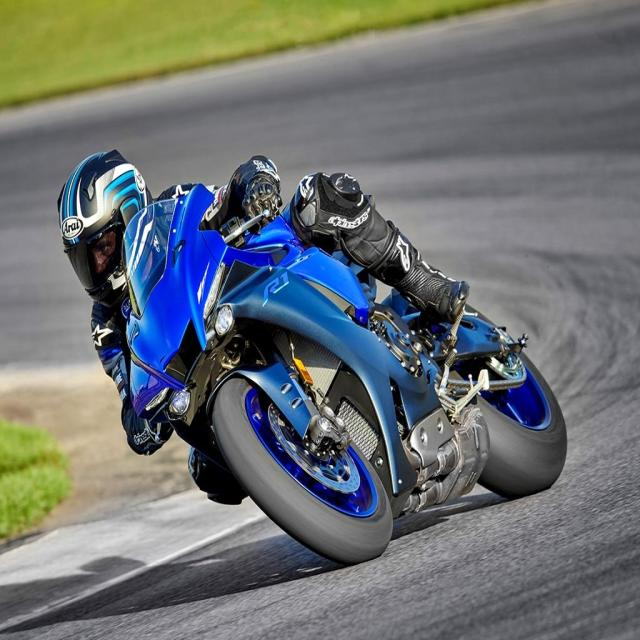Bike: (124, 183, 566, 562)
